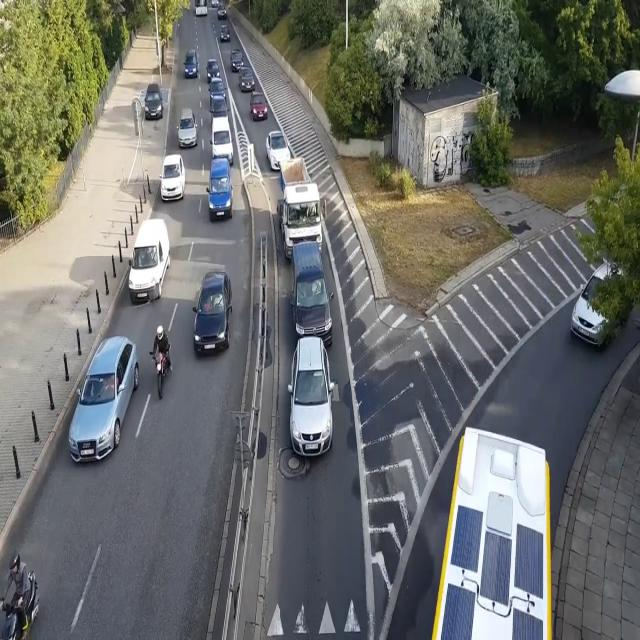bus: (432, 425, 553, 640), (195, 0, 208, 16)
car: (68, 336, 140, 466), (568, 259, 640, 348), (286, 336, 336, 456), (192, 268, 232, 361), (160, 153, 186, 203), (265, 132, 292, 171), (176, 106, 198, 149), (143, 84, 164, 120), (249, 90, 268, 121), (208, 77, 227, 102), (206, 56, 222, 85), (239, 66, 256, 92), (230, 48, 244, 72), (219, 23, 231, 43), (217, 3, 228, 19), (210, 0, 220, 8)
motorcycle: (1, 549, 41, 640), (148, 324, 174, 400)
truck: (276, 157, 327, 258)
van: (287, 242, 335, 349), (206, 158, 234, 222), (210, 116, 235, 166), (184, 48, 199, 80)
